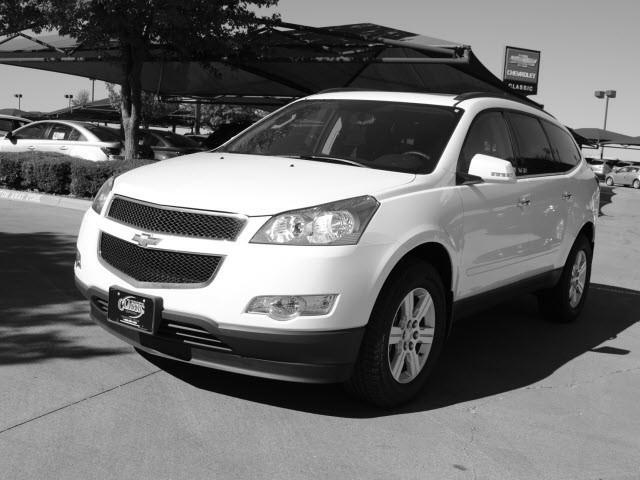car: (73, 80, 611, 409)
